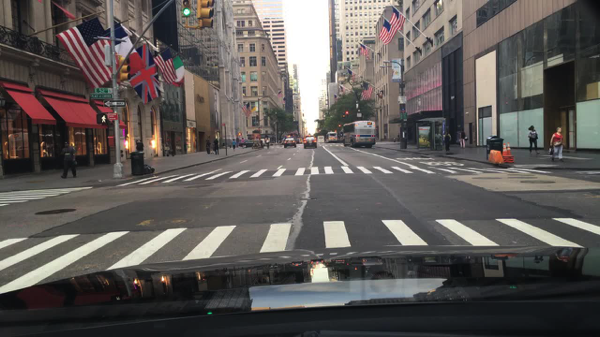bus: (341, 121, 376, 148), (325, 132, 337, 143)
car: (302, 135, 317, 149), (238, 140, 253, 148), (284, 138, 296, 148), (294, 138, 302, 144), (260, 138, 266, 146)
person: (59, 142, 77, 179), (549, 127, 565, 162), (527, 126, 541, 154), (444, 130, 450, 151), (459, 130, 465, 150), (213, 139, 220, 156), (137, 140, 145, 152), (206, 140, 211, 155), (257, 138, 263, 148), (447, 131, 452, 142), (265, 138, 269, 150), (231, 140, 235, 151), (241, 138, 244, 149), (397, 134, 400, 142), (393, 135, 396, 143)
traffic light: (119, 55, 131, 80), (203, 0, 213, 29), (196, 0, 211, 18), (182, 1, 192, 17), (96, 113, 108, 124), (345, 111, 348, 115), (302, 113, 304, 117)
traffic sign: (103, 100, 126, 107), (90, 94, 113, 99), (94, 88, 113, 93), (108, 112, 118, 120), (397, 96, 407, 104), (401, 113, 407, 119), (255, 126, 261, 128)
truck: (317, 136, 324, 143)
